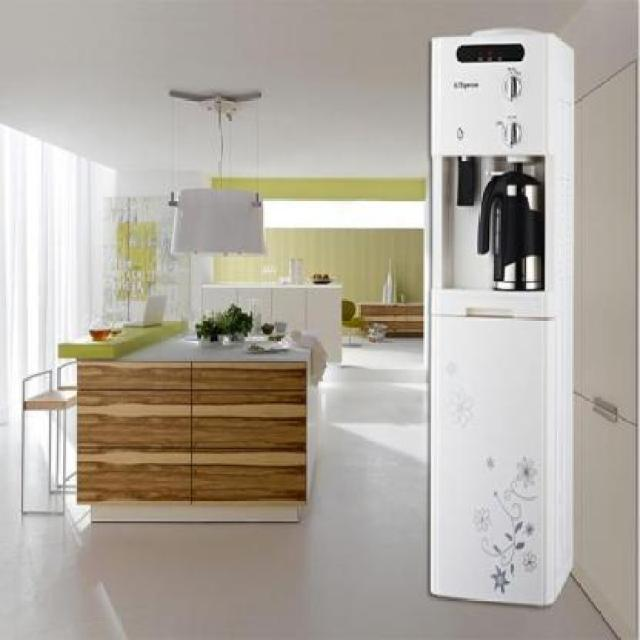cooler: (428, 26, 573, 612)
